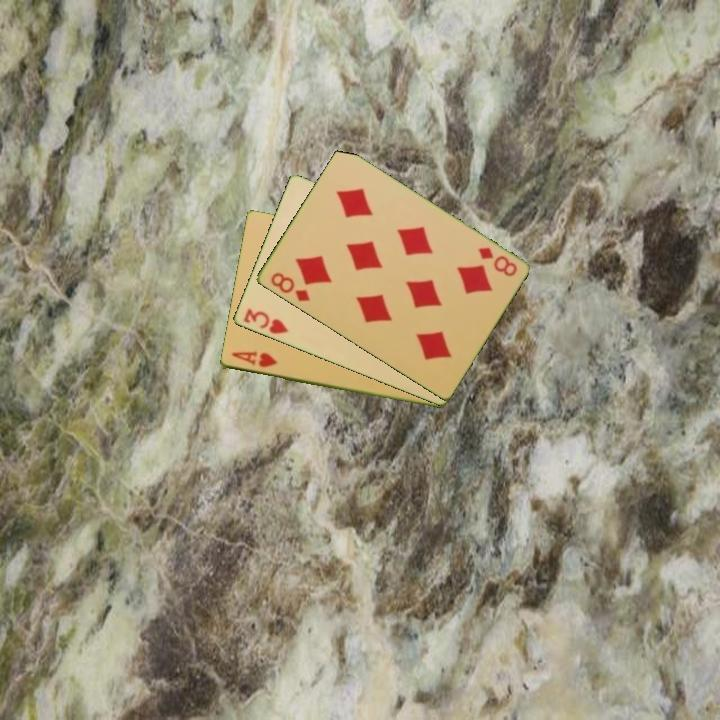3h: (240, 305, 291, 337)
8d: (267, 269, 313, 305), (474, 244, 520, 280)
Ah: (228, 348, 280, 371)
